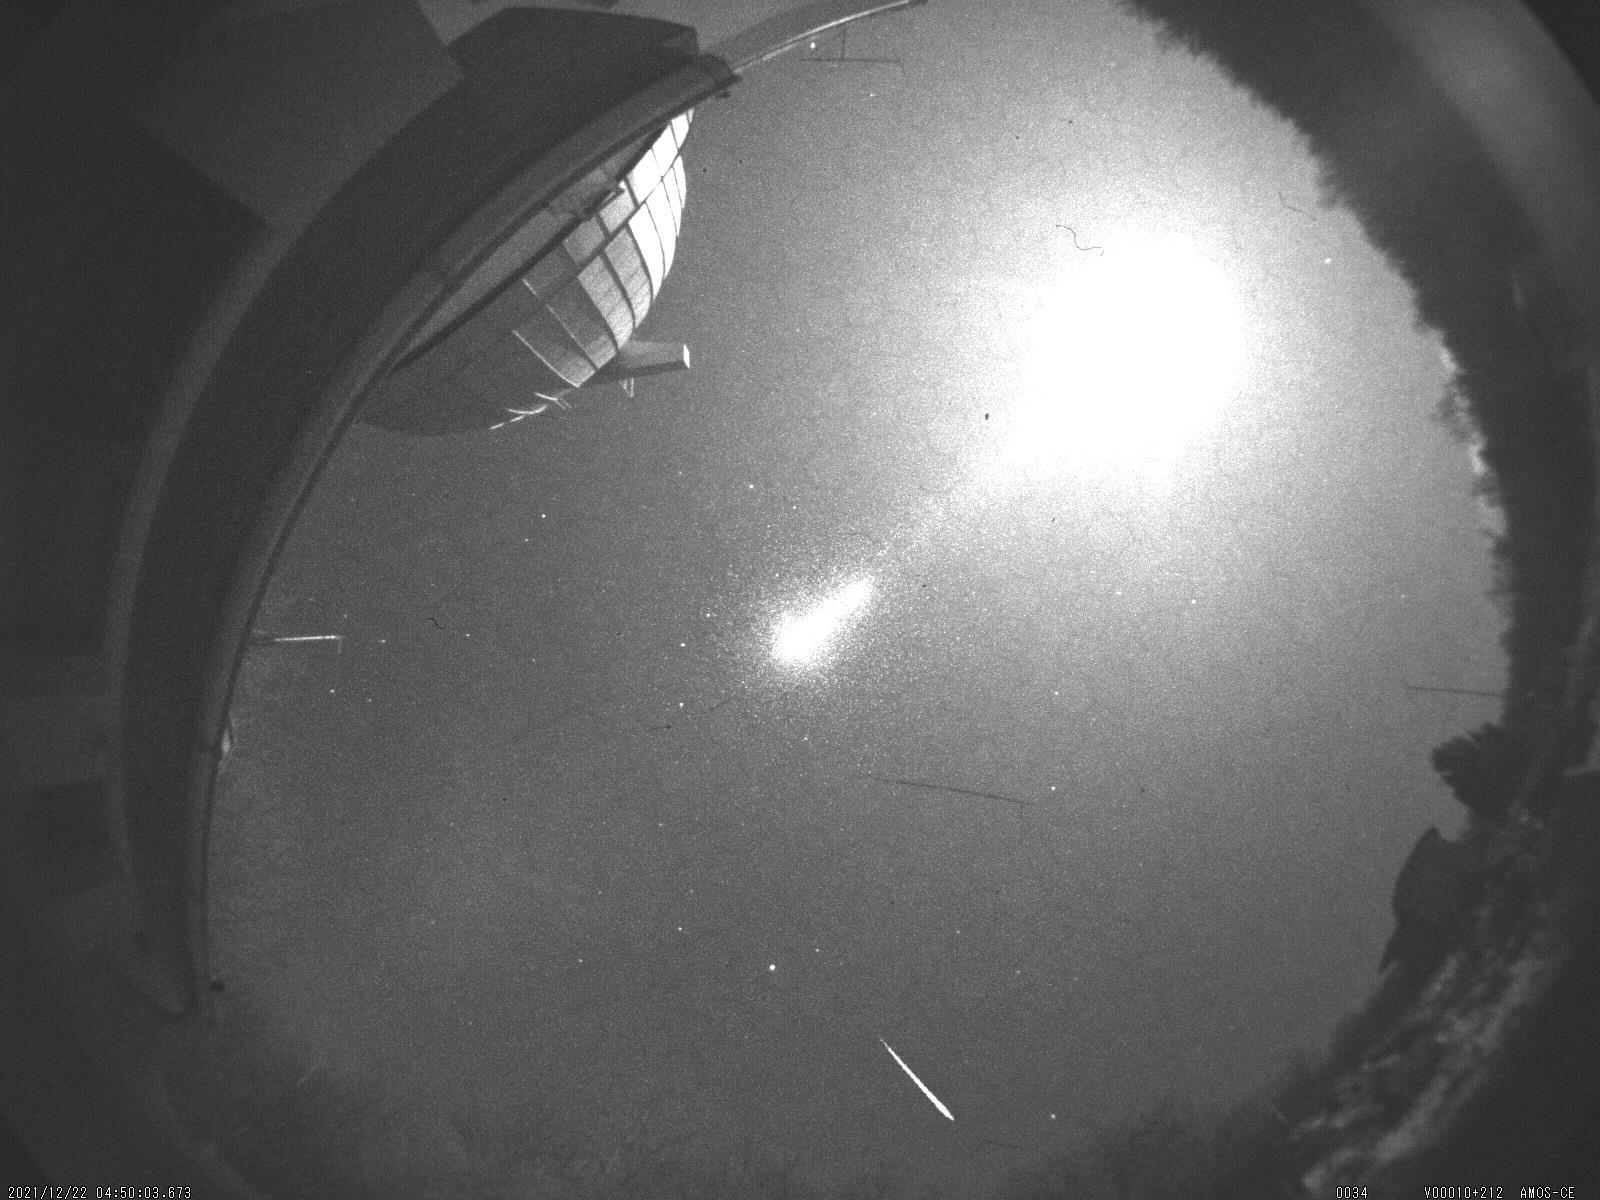Meteor: (871, 1030, 965, 1132)
